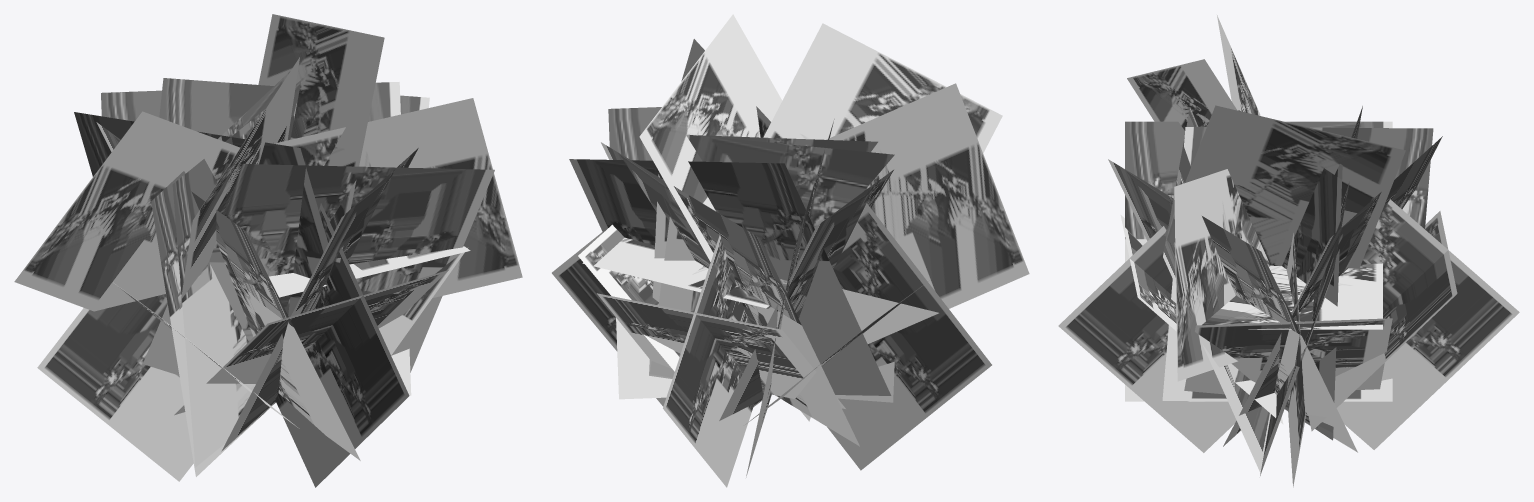
Rendered from winter bush6.FBX.
The picture shows the model from 3 angles, left to right: view 1: azimuth 30°, elevation 25°; view 2: azimuth 150°, elevation 25°; view 3: azimuth 270°, elevation 25°; orthographic projection. The views are drawn at different scales.
Visible parts, largest first — view 1: winter bush6; view 2: winter bush6; view 3: winter bush6.
Boxes of the visible parts, x1,y1,x2,y2 form: winter bush6: [14, 14, 522, 487]; winter bush6: [552, 14, 1029, 487]; winter bush6: [1058, 15, 1519, 487].
Bounding box in the file's own units: 25.73 × 21.76 × 23.5.
